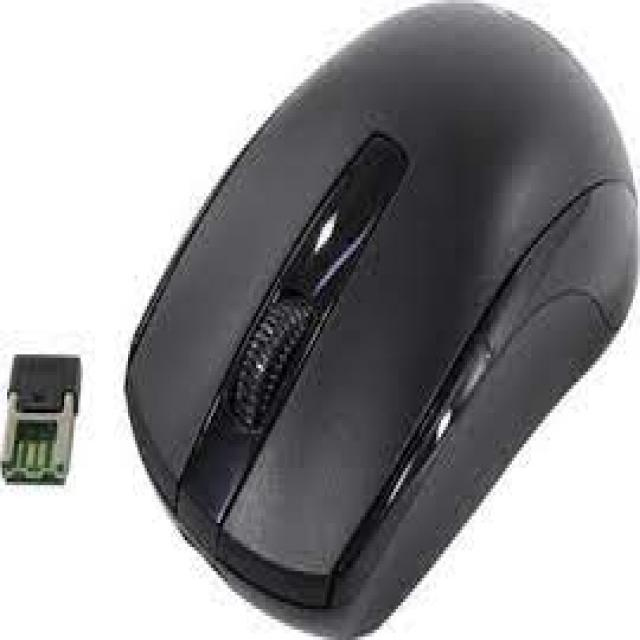others: (118, 3, 640, 639)
